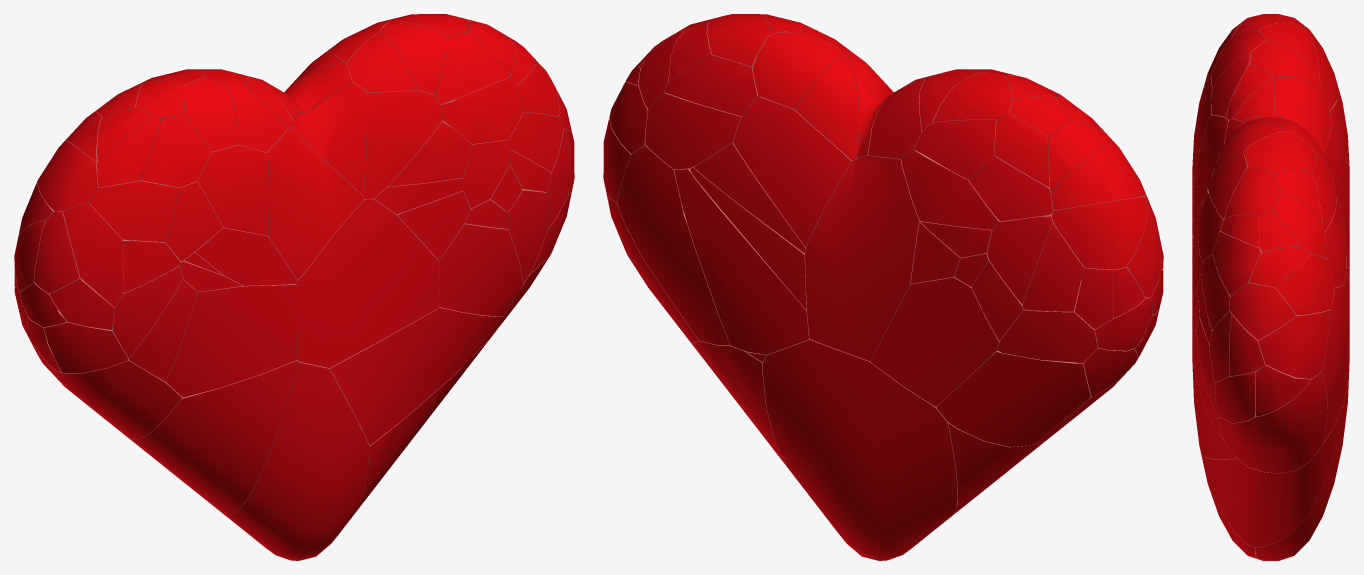
File: heart.glb
3 views of the same model, side by side, from view 1: azimuth 30°, elevation 25°; view 2: azimuth 150°, elevation 25°; view 3: azimuth 270°, elevation 25° (orthographic). The views are drawn at different scales.
Visible parts, largest first — view 1: Cube_Cube.001_cell.018, Cube_Cube.001_cell.074, Cube_Cube.001_cell.086, Cube_Cube.001_cell.055, Cube_Cube.001_cell.093, Cube_Cube.001_cell.050, Cube_Cube.001_cell.017, Cube_Cube.001_cell.002, Cube_Cube.001_cell.042, Cube_Cube.001_cell.094, Cube_Cube.001_cell.099, Cube_Cube.001_cell.080 (+45 smaller); view 2: Cube_Cube.001_cell.088, Cube_Cube.001_cell.082, Cube_Cube.001_cell.025, Cube_Cube.001_cell.036, Cube_Cube.001_cell.041, Cube_Cube.001_cell.092, Cube_Cube.001_cell.015, Cube_Cube.001_cell.087, Cube_Cube.001_cell.063, Cube_Cube.001_cell.075, Cube_Cube.001_cell.053, Cube_Cube.001_cell.046 (+34 smaller); view 3: Cube_Cube.001_cell.038, Cube_Cube.001_cell.057, Cube_Cube.001_cell.005, Cube_Cube.001_cell.079, Cube_Cube.001_cell.092, Cube_Cube.001_cell.045, Cube_Cube.001_cell.048, Cube_Cube.001_cell.088, Cube_Cube.001_cell.032, Cube_Cube.001_cell.029, Cube_Cube.001_cell.023, Cube_Cube.001_cell.030 (+36 smaller).
Boxes of the visible parts, <box> form: Cube_Cube.001_cell.018: <box>224,360,369,560</box>; Cube_Cube.001_cell.074: <box>296,198,439,367</box>; Cube_Cube.001_cell.086: <box>127,360,298,514</box>; Cube_Cube.001_cell.055: <box>329,307,502,445</box>; Cube_Cube.001_cell.093: <box>165,284,296,397</box>; Cube_Cube.001_cell.050: <box>265,127,364,280</box>; Cube_Cube.001_cell.017: <box>437,223,523,316</box>; Cube_Cube.001_cell.002: <box>363,91,442,199</box>; Cube_Cube.001_cell.042: <box>55,358,182,439</box>; Cube_Cube.001_cell.094: <box>196,145,269,235</box>; Cube_Cube.001_cell.099: <box>289,82,367,195</box>; Cube_Cube.001_cell.080: <box>89,180,179,241</box>; Cube_Cube.001_cell.088: <box>763,339,957,560</box>; Cube_Cube.001_cell.082: <box>805,155,920,361</box>; Cube_Cube.001_cell.025: <box>674,167,809,354</box>; Cube_Cube.001_cell.036: <box>870,276,1019,406</box>; Cube_Cube.001_cell.041: <box>936,350,1090,446</box>; Cube_Cube.001_cell.092: <box>617,145,730,345</box>; Cube_Cube.001_cell.015: <box>733,96,851,246</box>; Cube_Cube.001_cell.087: <box>645,93,741,169</box>; Cube_Cube.001_cell.063: <box>1051,197,1147,269</box>; Cube_Cube.001_cell.075: <box>901,150,1000,229</box>; Cube_Cube.001_cell.053: <box>752,32,845,109</box>; Cube_Cube.001_cell.046: <box>997,280,1097,363</box>; Cube_Cube.001_cell.038: <box>1203,406,1343,547</box>; Cube_Cube.001_cell.057: <box>1218,372,1326,473</box>; Cube_Cube.001_cell.005: <box>1258,310,1330,378</box>; Cube_Cube.001_cell.079: <box>1275,77,1331,151</box>; Cube_Cube.001_cell.092: <box>1321,284,1347,442</box>; Cube_Cube.001_cell.045: <box>1269,254,1334,315</box>; Cube_Cube.001_cell.048: <box>1230,283,1296,339</box>; Cube_Cube.001_cell.088: <box>1255,356,1349,560</box>; Cube_Cube.001_cell.032: <box>1244,131,1316,174</box>; Cube_Cube.001_cell.029: <box>1212,231,1262,296</box>; Cube_Cube.001_cell.023: <box>1224,167,1281,218</box>; Cube_Cube.001_cell.030: <box>1272,193,1326,258</box>.
Size of the model in its own units: 2.16 by 1.92 by 0.5758.
